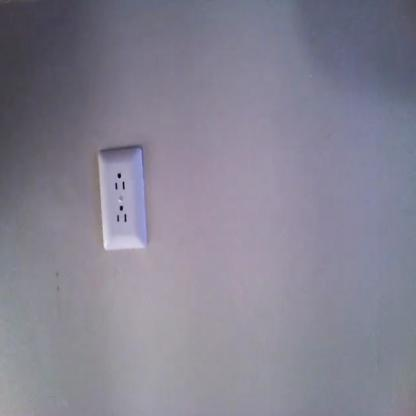OUTLET: (97, 148, 144, 250)
